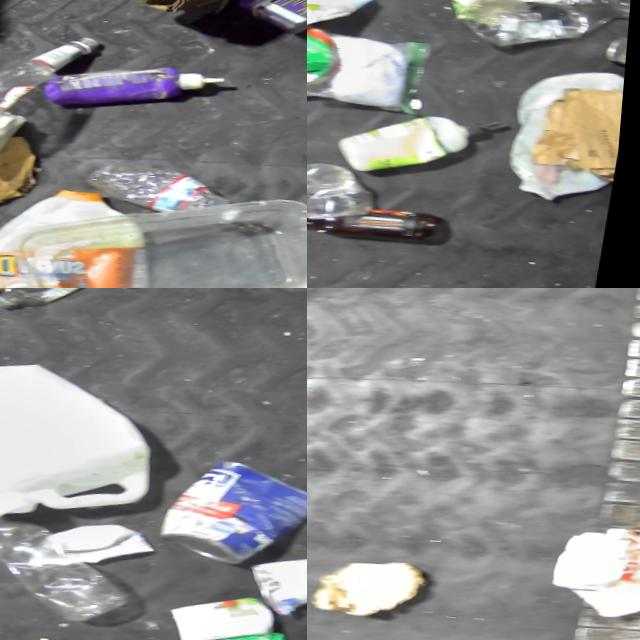can: (159, 455, 307, 576), (42, 56, 230, 121), (595, 34, 632, 75), (217, 629, 298, 640)
milk_jug: (0, 343, 171, 540), (509, 71, 630, 214)
non_white_jug: (0, 178, 162, 288)
plastic_bottle: (0, 515, 147, 630), (0, 25, 100, 141), (83, 155, 241, 221), (453, 0, 635, 56), (0, 288, 125, 318)
